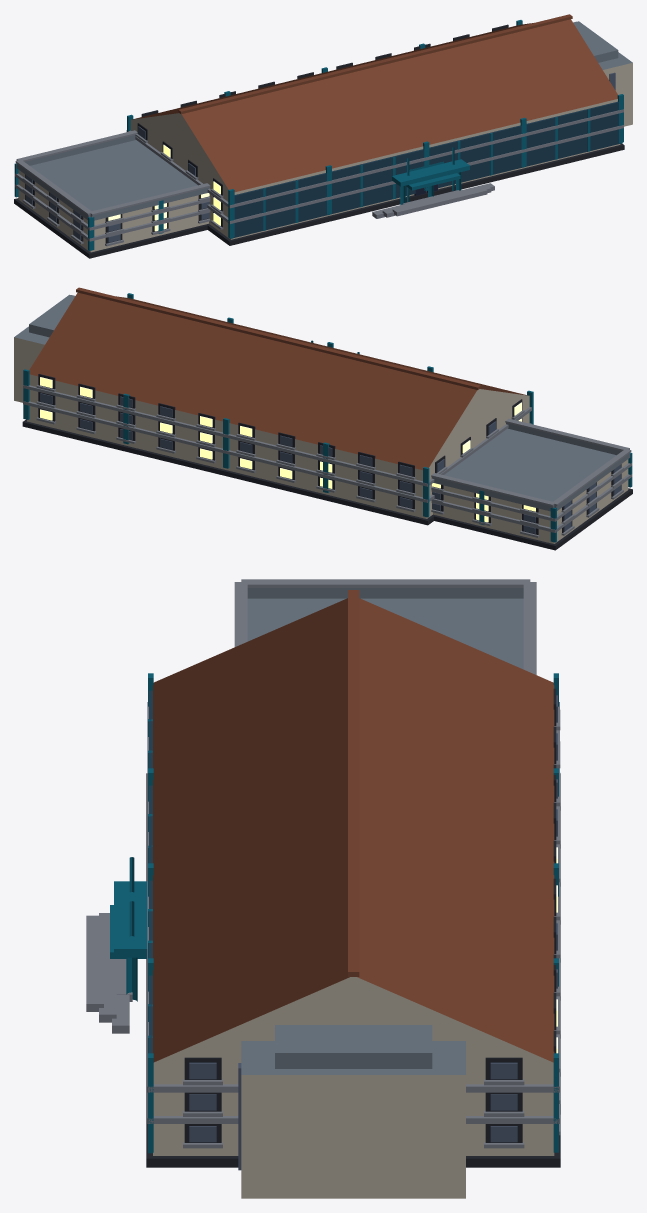
File: library-high.glb
The picture shows the model from 3 angles, top to bottom: view 1: azimuth 30°, elevation 25°; view 2: azimuth 150°, elevation 25°; view 3: azimuth 270°, elevation 25°; orthographic projection. The views are drawn at different scales.
Size of the model in its own units: 157 by 26.8 by 59.1.
